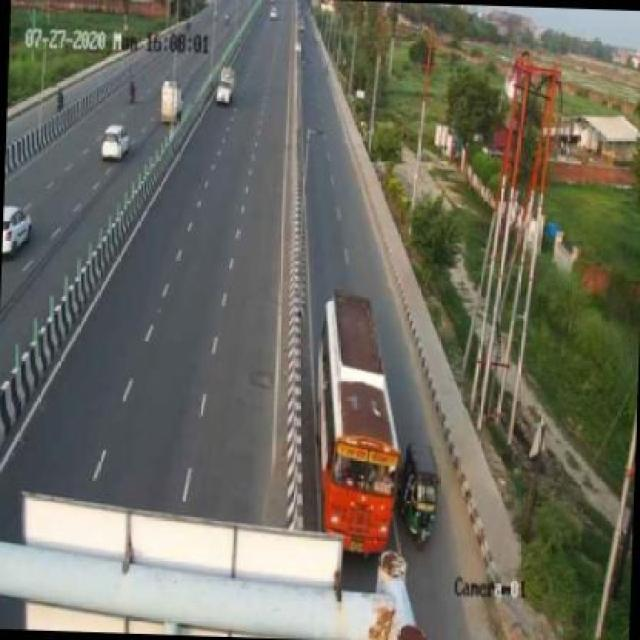car: (398, 442, 449, 549), (5, 200, 40, 255), (102, 120, 136, 165), (216, 64, 244, 110), (157, 79, 186, 123)
